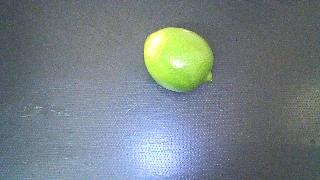EXPORTACION: (144, 28, 214, 92)
